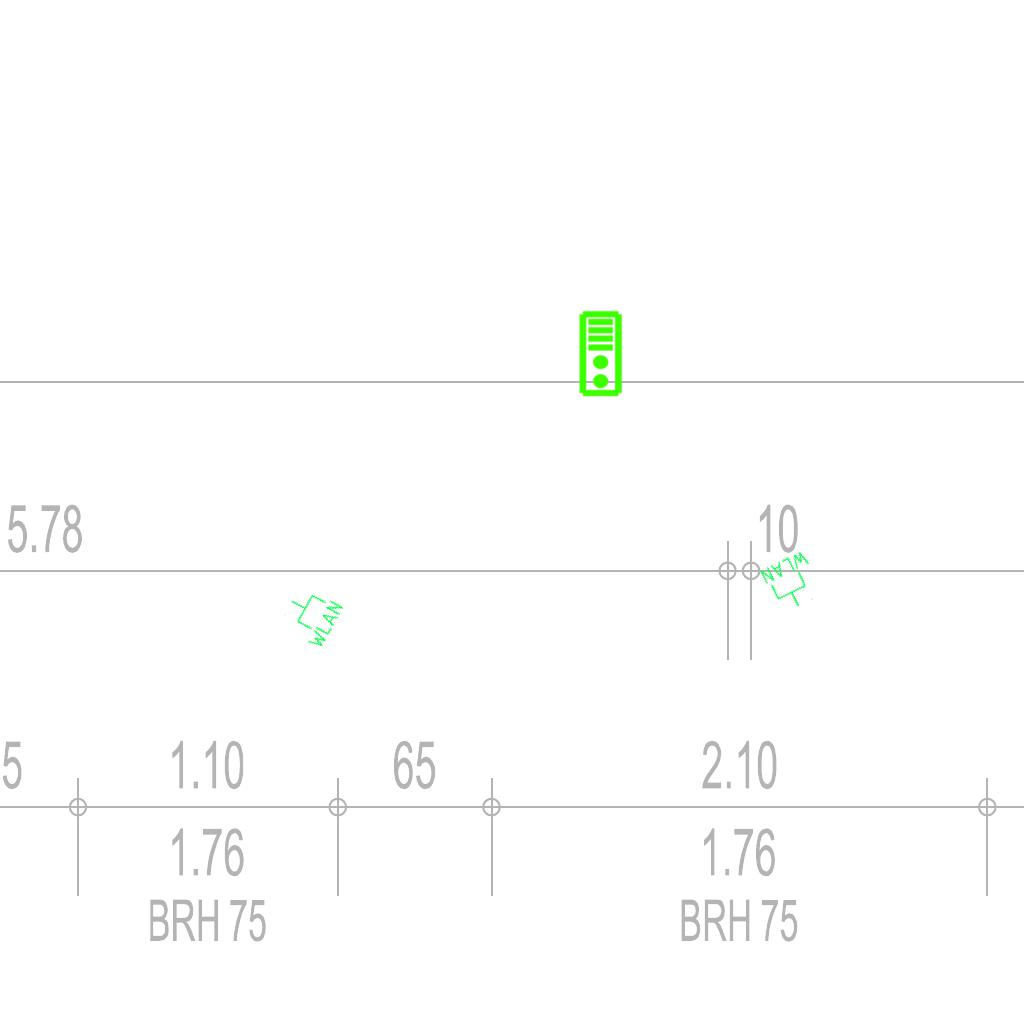Gegensprechanlage_mit_Video: (578, 310, 625, 398)
WLAN: (275, 581, 347, 653), (757, 547, 827, 617)
